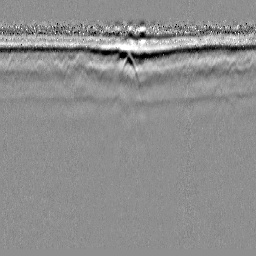cavity: (118, 52, 140, 86)
